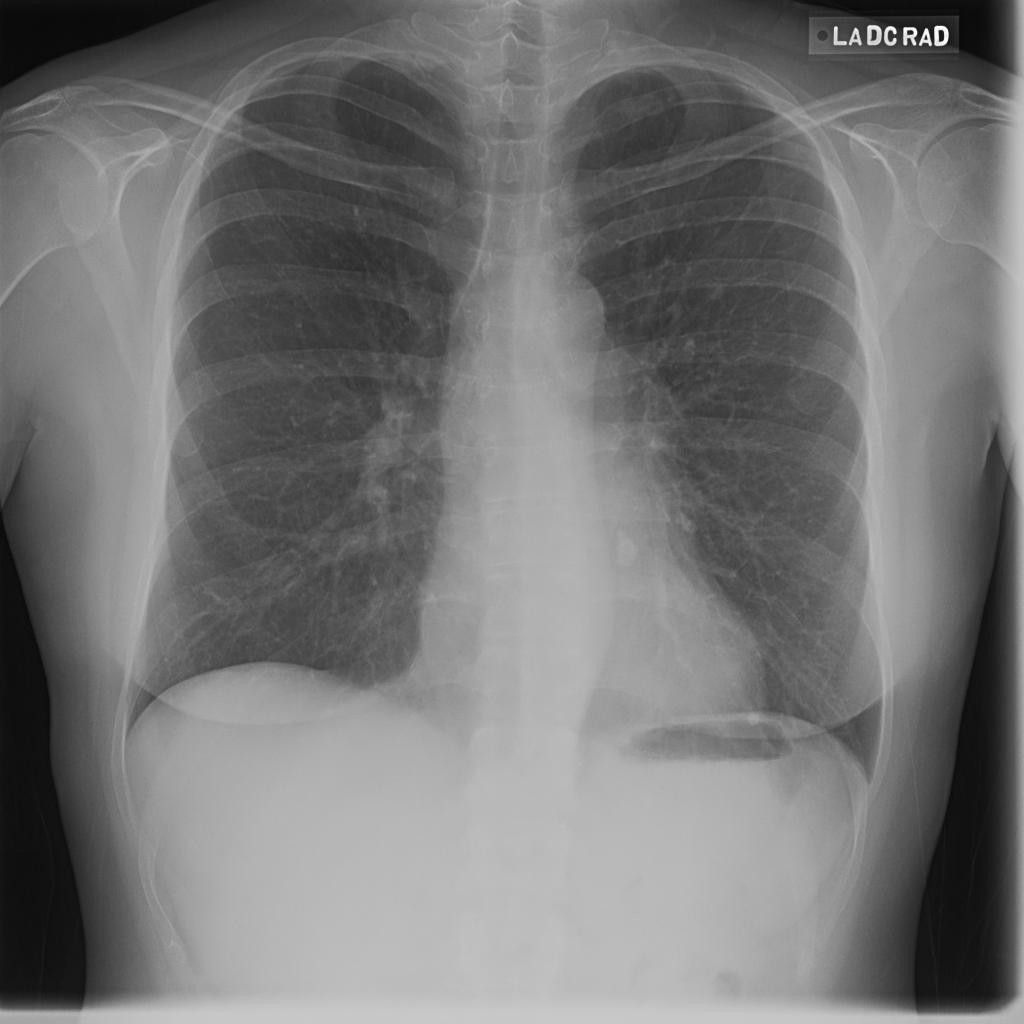Nodule: (347, 136, 380, 166), (368, 352, 400, 381)
